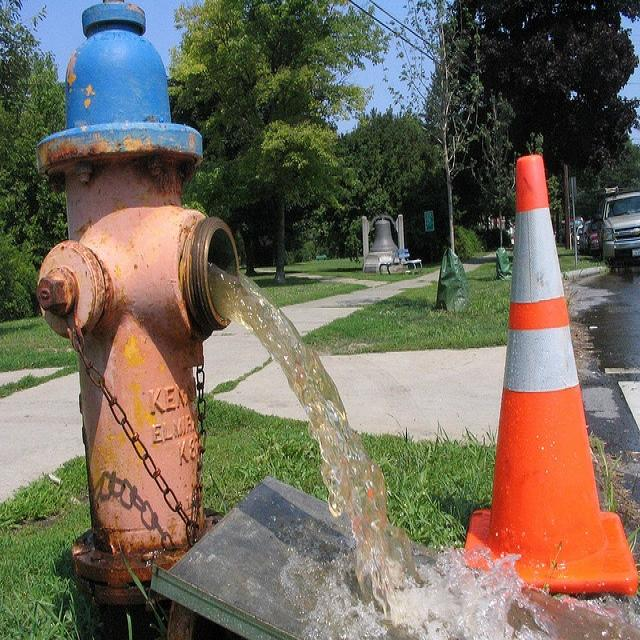car: (588, 213, 601, 259), (579, 219, 590, 253), (569, 219, 581, 248), (575, 223, 582, 248)
fire_hydrant: (34, 0, 245, 632)
reflective_cone: (454, 152, 638, 596)
truck: (596, 187, 638, 265)
